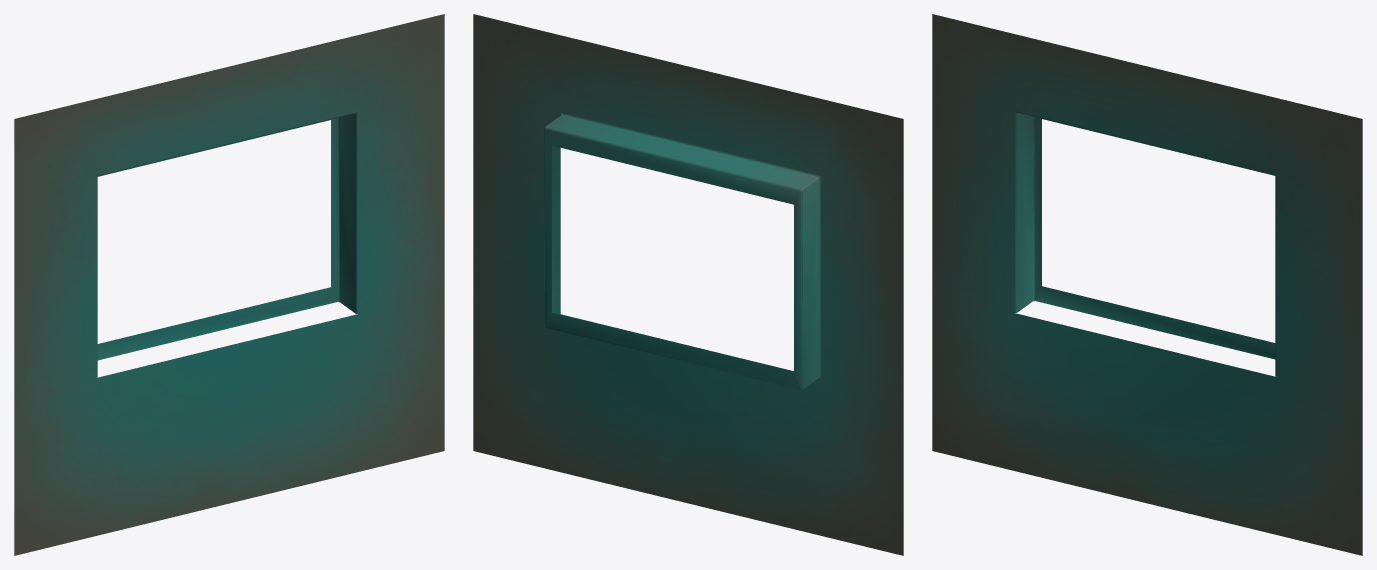
Rendered from wall1.glb.
The picture shows the model from 3 angles, left to right: view 1: azimuth 30°, elevation 25°; view 2: azimuth 150°, elevation 25°; view 3: azimuth 330°, elevation 25°; orthographic projection.
Visible parts, largest first — view 1: Wall1; view 2: Wall1; view 3: Wall1.
Part boxes in pixels (x1,y1,x2,y2): Wall1: (14,14,444,555); Wall1: (473,14,903,555); Wall1: (932,14,1362,555).
Bounding box in the file's own units: 1.97 × 1.91 × 0.1386.
Materials: 1 (1 with a texture image).
